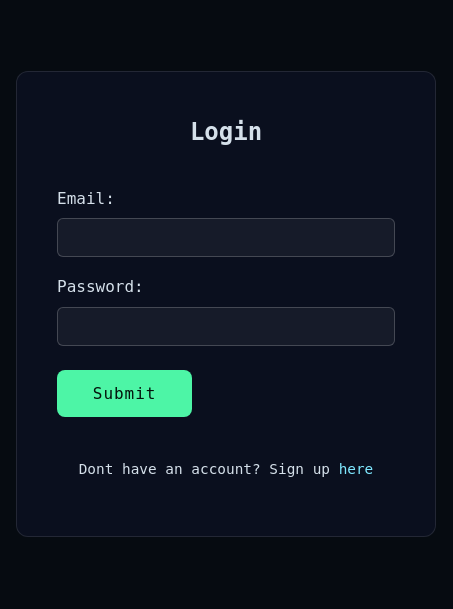
Login Page › navigates to /login on unsuccessful login
This screenshot has width=453, height=609.
Type "test@email.com" into the field labelled "Email:". click: [226, 238]
box: [57,218,395,258]
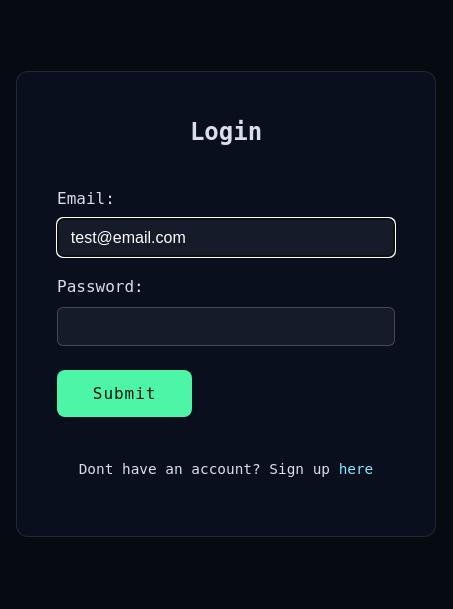
Type "1234" into the password field labelled "Password:". click: [226, 327]
box: [57,307,395,346]
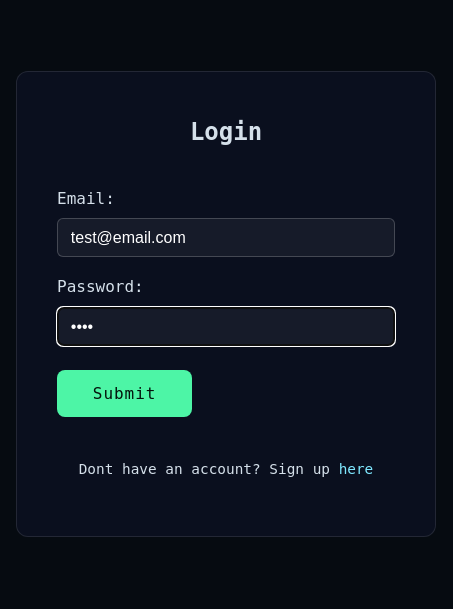
Click the button. click: [125, 394]
box: [57,370,192,417]
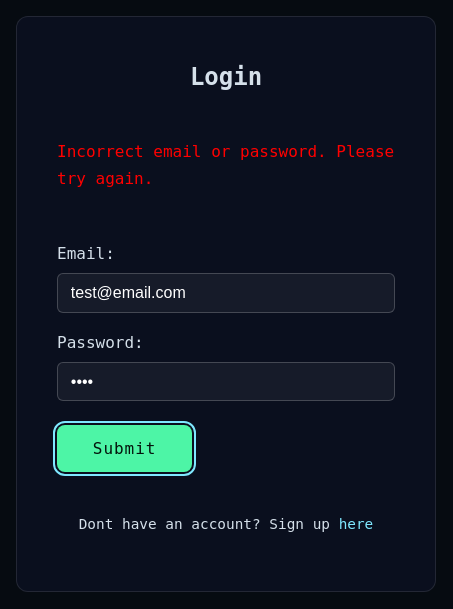
Now the text "Incorrect email or password. Please try again." is shown, box [57,138,395,192]
